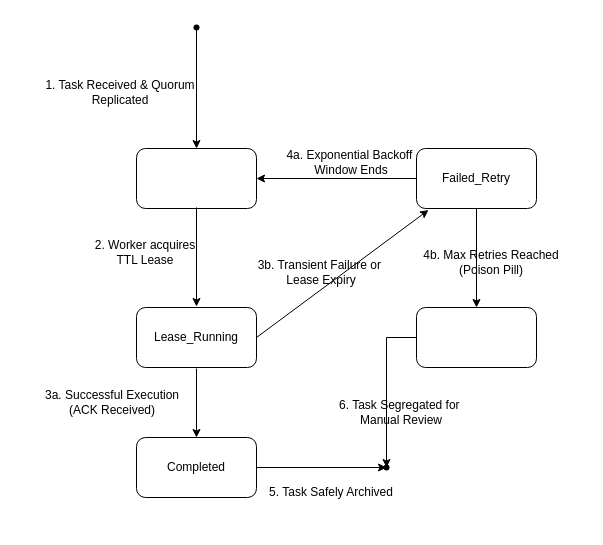
The diagram is 603 pixels wide and 545 high, and some of its shapes have lost their labels. The shapes that lost their labels are listed below. From the top down, each one's box as (x1, y1, x2, y2) in pixels, then its label:
(136, 148, 256, 208): Created_Pending
(416, 306, 536, 368): Dead_Lettered
